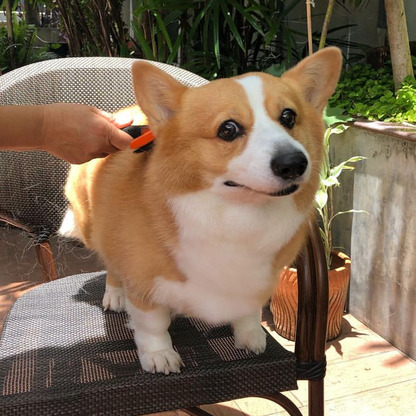Corgi: (80, 44, 357, 317)
